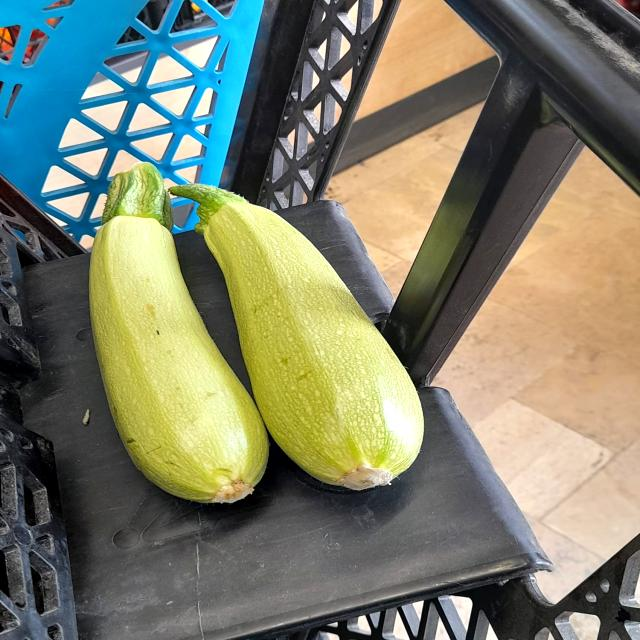zucchini: (172, 176, 431, 497), (86, 159, 270, 508)
